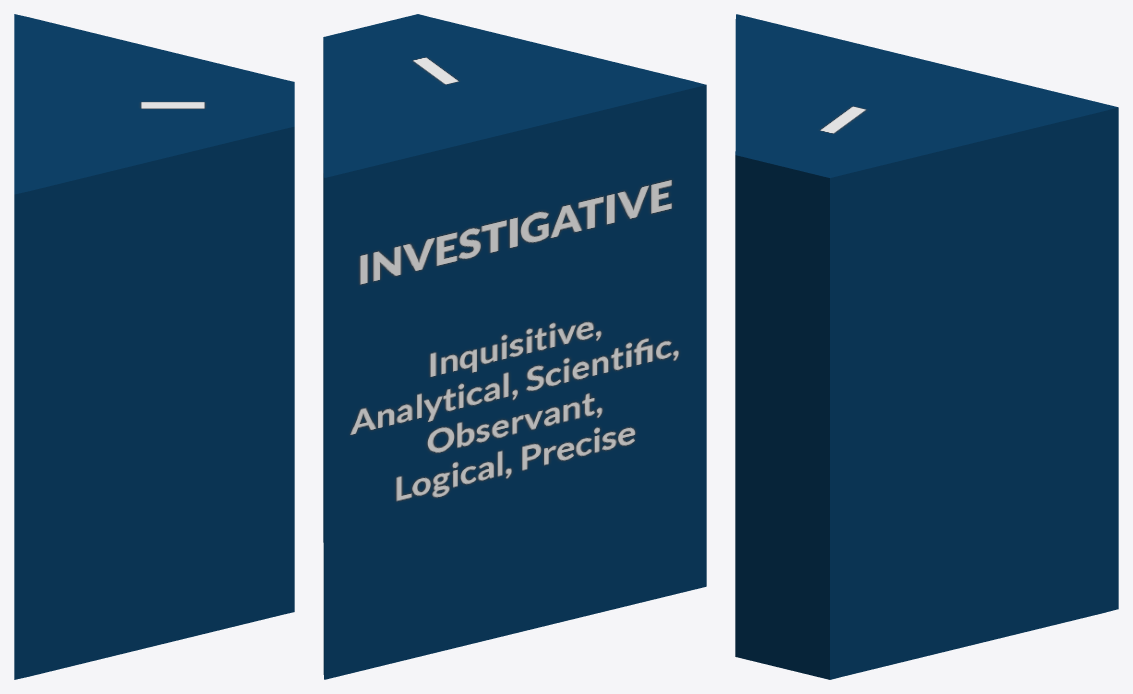
File: imodel.glb
3 views of the same model, side by side, from view 1: azimuth 30°, elevation 25°; view 2: azimuth 150°, elevation 25°; view 3: azimuth 270°, elevation 25° (orthographic). The views are drawn at different scales.
Parts seen in each view (by area): view 1: Object005; view 2: Object005; view 3: Object005.
Boxes of the visible parts, bbox=[...] form: Object005: bbox=[14, 14, 294, 679]; Object005: bbox=[323, 14, 706, 679]; Object005: bbox=[735, 14, 1118, 679].
Size of the model in its own units: 0.4373 by 0.6232 by 0.4315.
1 material, 1 textured.
